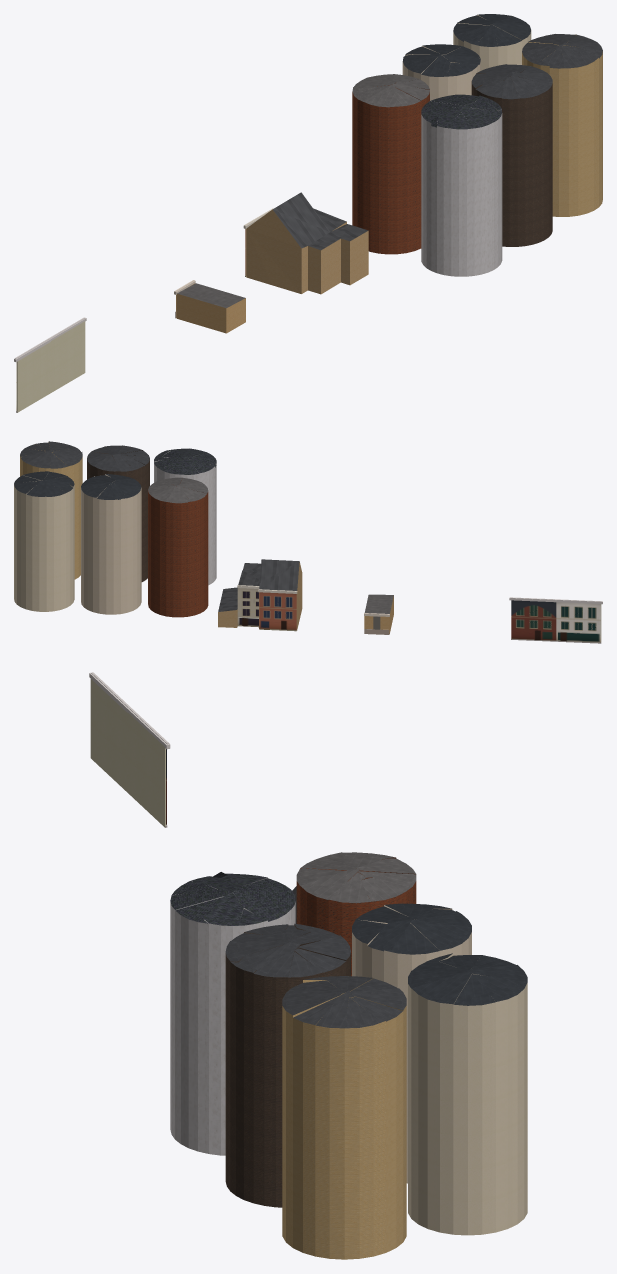
The picture shows the model from 3 angles, top to bottom: view 1: azimuth 30°, elevation 25°; view 2: azimuth 150°, elevation 25°; view 3: azimuth 270°, elevation 25°; orthographic projection. The views are drawn at different scales.
Visible parts, largest first — view 1: bldg_6000070059, bldg_6000070058, bldg_6000070063, bldg_6000070061, bldg_6004411711, bldg_6008315700_facade8, bldg_6004411711_roof, bldg_6000070059_roof, bldg_6000070061_roof, bldg_6000070063_roof, bldg_6000070060_roof, bldg_6000070062_roof (+5 smaller); view 2: bldg_6000070062, bldg_6000070060, bldg_6000070058, bldg_6008315700_facade8, bldg_6004411711_roof, bldg_6004411711_facade0, bldg_6000070059, bldg_6000070059_roof, bldg_6000070063_roof, bldg_6000070061, bldg_6000070061_roof, bldg_6000070063 (+7 smaller); view 3: bldg_6000070063, bldg_6000070062, bldg_6000070061, bldg_6000070059, bldg_6008315700_facade8, bldg_6000070061_roof, bldg_6000070059_roof, bldg_6000070063_roof, bldg_6000070062_roof, bldg_6000070060_roof, bldg_6000070058_roof, bldg_6000070060 (+1 smaller).
Part boxes in pixels (<box>): bldg_6000070059: <box>421,100,502,276</box>; bldg_6000070058: <box>352,83,429,254</box>; bldg_6000070063: <box>522,34,602,216</box>; bldg_6000070061: <box>471,70,552,246</box>; bldg_6004411711: <box>246,209,368,294</box>; bldg_6008315700_facade8: <box>14,317,86,412</box>; bldg_6004411711_roof: <box>272,192,368,250</box>; bldg_6000070059_roof: <box>421,94,502,129</box>; bldg_6000070061_roof: <box>472,64,552,99</box>; bldg_6000070063_roof: <box>522,34,602,68</box>; bldg_6000070060_roof: <box>403,44,480,76</box>; bldg_6000070062_roof: <box>453,14,530,46</box>; bldg_6000070062: <box>14,474,74,611</box>; bldg_6000070060: <box>81,474,141,614</box>; bldg_6000070058: <box>148,480,208,617</box>; bldg_6008315700_facade8: <box>509,597,602,643</box>; bldg_6004411711_roof: <box>218,559,299,611</box>; bldg_6004411711_facade0: <box>258,589,297,631</box>; bldg_6000070059: <box>154,450,216,585</box>; bldg_6000070059_roof: <box>154,448,216,474</box>; bldg_6000070063_roof: <box>20,441,82,468</box>; bldg_6000070061: <box>87,446,149,581</box>; bldg_6000070061_roof: <box>87,445,149,471</box>; bldg_6000070063: <box>20,442,82,579</box>; bldg_6000070063: <box>282,978,406,1259</box>; bldg_6000070062: <box>408,953,527,1235</box>; bldg_6000070061: <box>225,924,350,1207</box>; bldg_6000070059: <box>170,877,295,1155</box>; bldg_6008315700_facade8: <box>89,672,170,827</box>; bldg_6000070061_roof: <box>225,923,350,977</box>; bldg_6000070059_roof: <box>170,872,295,925</box>; bldg_6000070063_roof: <box>282,976,406,1028</box>; bldg_6000070062_roof: <box>408,953,527,1005</box>; bldg_6000070060_roof: <box>352,903,471,954</box>; bldg_6000070058_roof: <box>296,852,416,903</box>; bldg_6000070060: <box>352,905,471,1183</box>.
Size of the model in its own units: 98.09 by 21.89 by 36.11.
Materials: 22 (15 with a texture image).
